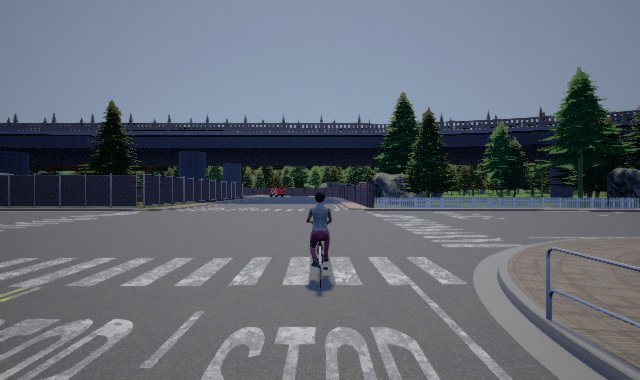bike: (305, 192, 332, 290)
vehicle: (269, 187, 286, 198)
